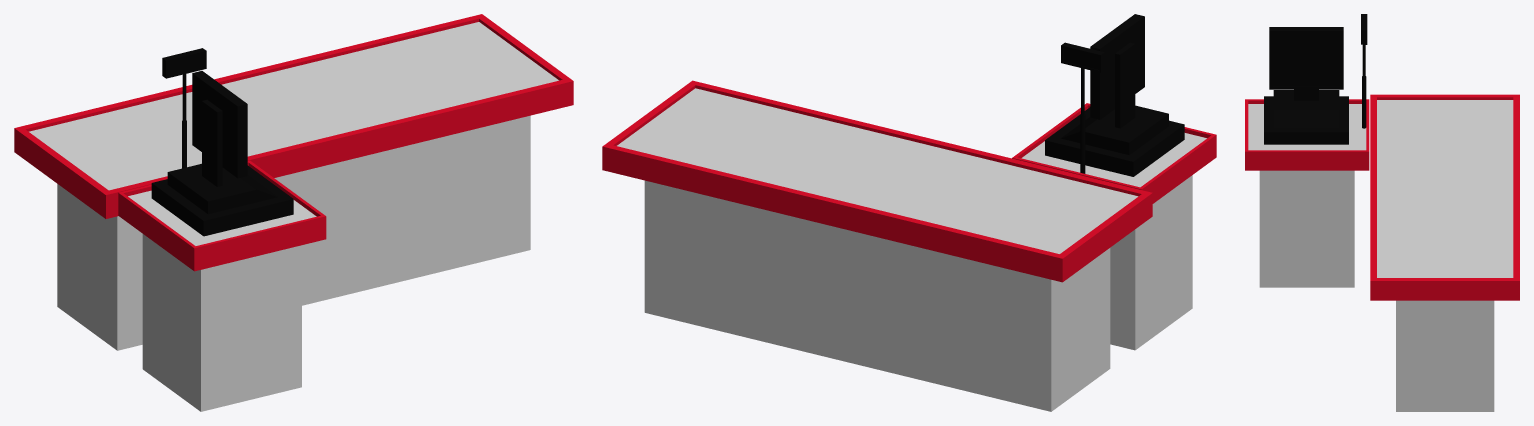
File: cashier_counter_asset.fbx
3 renders of one model, left to right at view 1: azimuth 30°, elevation 25°; view 2: azimuth 150°, elevation 25°; view 3: azimuth 270°, elevation 25°, orthographic. The views are drawn at different scales.
Visible parts, largest first — view 1: Counter, Computer, PriceScreen; view 2: Counter, Computer, PriceScreen; view 3: Counter, Computer, PriceScreen.
Part boxes in pixels (x1,y1,x2,y2): Counter: [14, 14, 573, 411]; Computer: [151, 71, 293, 236]; PriceScreen: [162, 48, 206, 168]; Counter: [602, 80, 1216, 411]; Computer: [1045, 14, 1184, 176]; PriceScreen: [1061, 42, 1104, 173]; Counter: [1245, 94, 1519, 411]; Computer: [1264, 27, 1348, 144]; PriceScreen: [1361, 14, 1367, 128].
Size of the model in its own units: 927 by 567 by 578.
